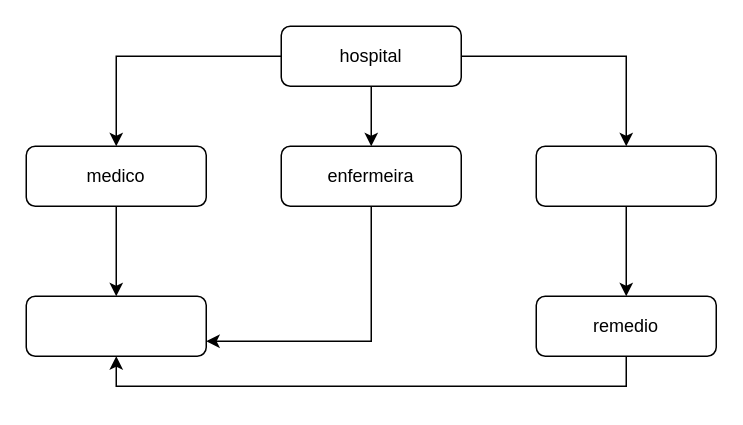
This 743x425 diagram has some shape labels left out. Here are the shapes that lost their labels. From the top down, the box of each, then its label:
(535, 145, 716, 206): farmacia
(25, 295, 206, 356): receita
